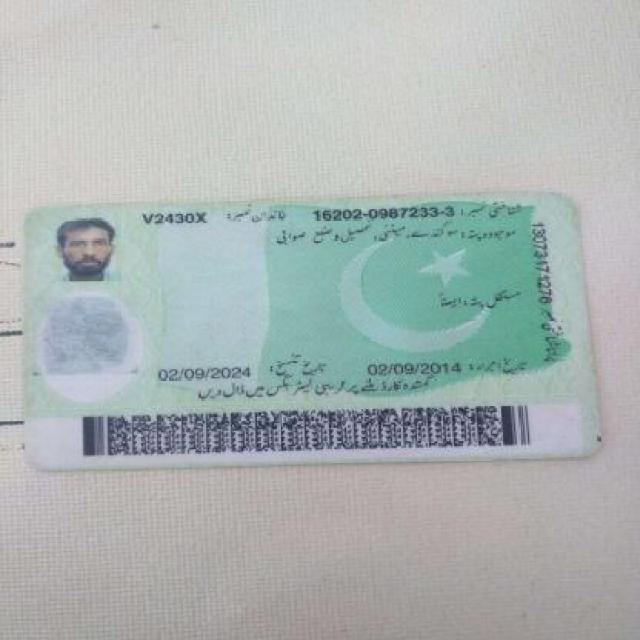Back: (23, 196, 611, 464)
